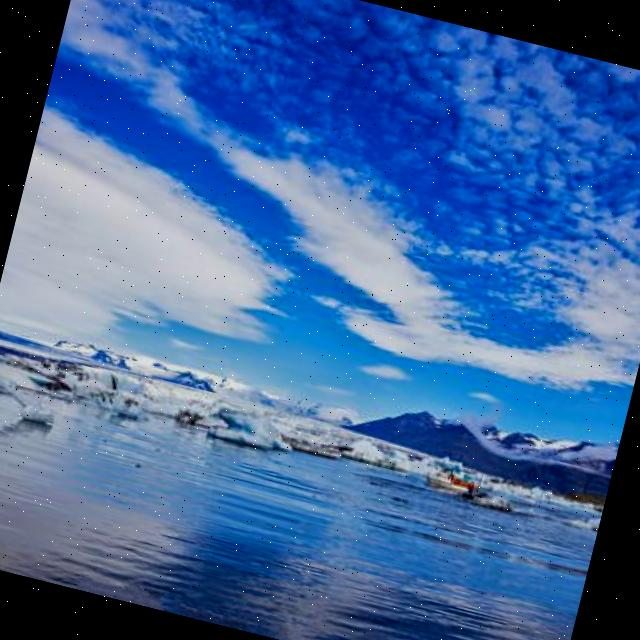St: (1, 78, 336, 406)
